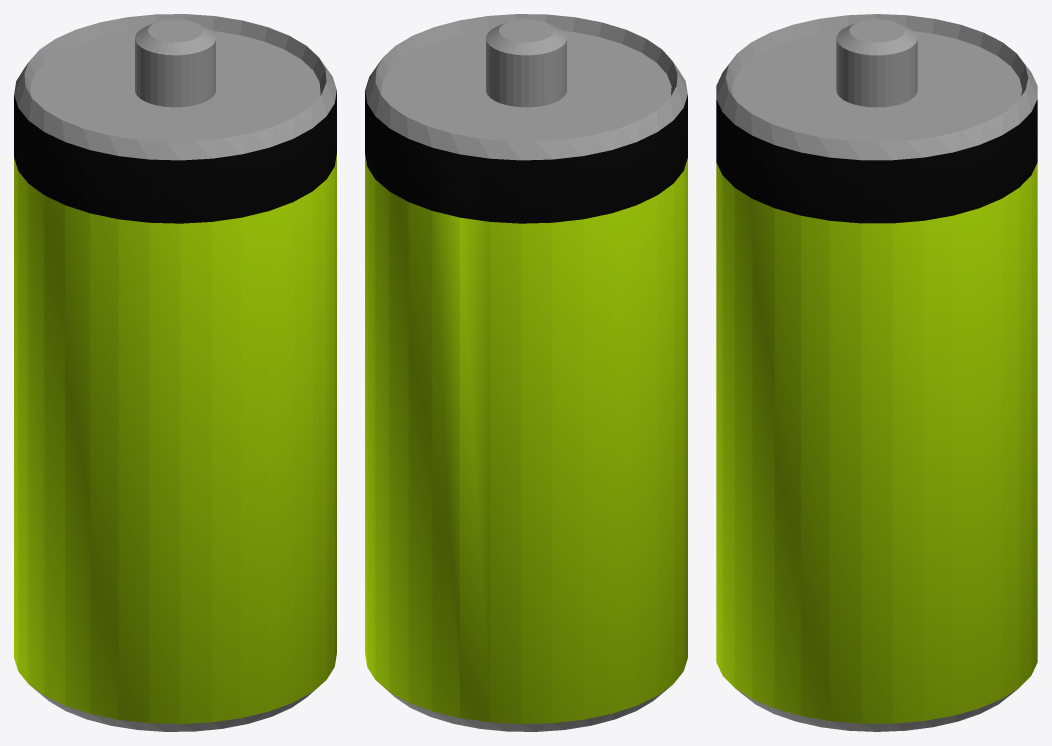
File: Pilha.fbx
3 renders of one model, left to right at view 1: azimuth 30°, elevation 25°; view 2: azimuth 150°, elevation 25°; view 3: azimuth 270°, elevation 25°, orthographic.
Visible parts, largest first — view 1: Pilha; view 2: Pilha; view 3: Pilha.
Part boxes in pixels (bbox=[...]): Pilha: bbox=[14, 14, 336, 731]; Pilha: bbox=[365, 14, 687, 731]; Pilha: bbox=[716, 14, 1037, 731].
Bounding box in the file's own units: 126 × 277 × 126.
Materials: 1 (1 with a texture image).
